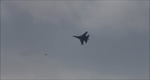maybay_muctieu: (73, 30, 92, 45)
